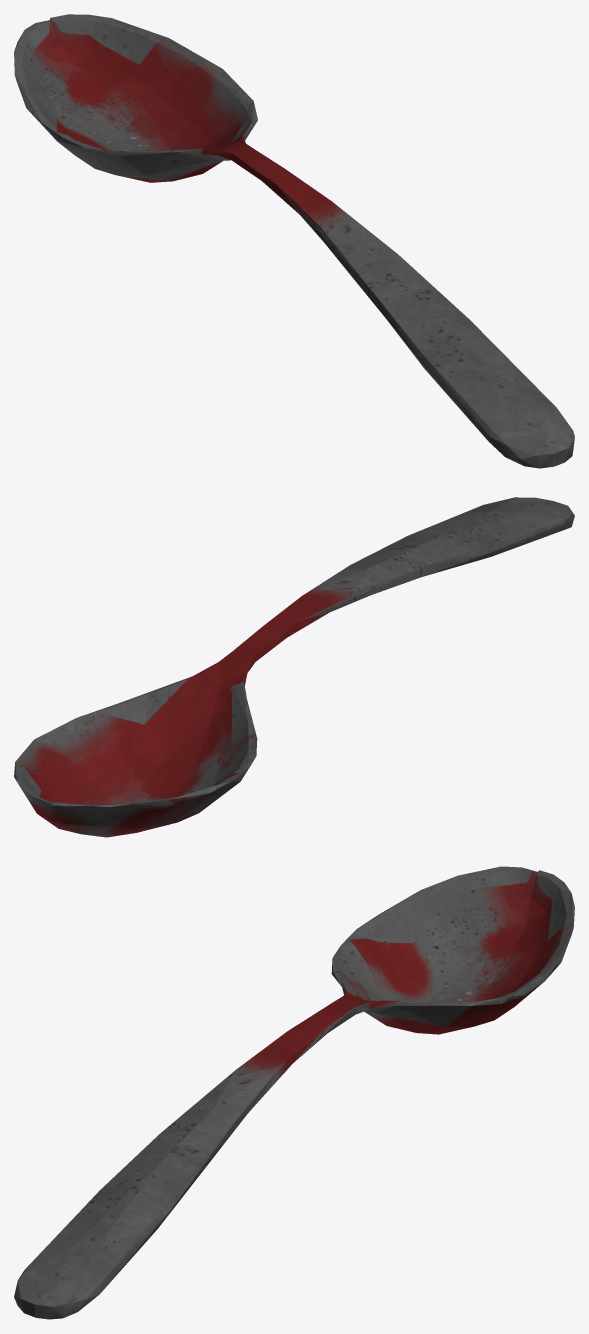
Rendered from Spoon.fbx.
The picture shows the model from 3 angles, top to bottom: view 1: azimuth 30°, elevation 25°; view 2: azimuth 150°, elevation 25°; view 3: azimuth 330°, elevation 25°; orthographic projection.
Visible parts, largest first — view 1: spoon; view 2: spoon; view 3: spoon.
Part boxes in pixels (x1,y1,x2,y2): spoon: (14,14,574,468); spoon: (14,497,574,837); spoon: (14,866,574,1319).
Bounding box in the file's own units: 68.55 × 31.41 × 316.
1 material, 1 textured.
